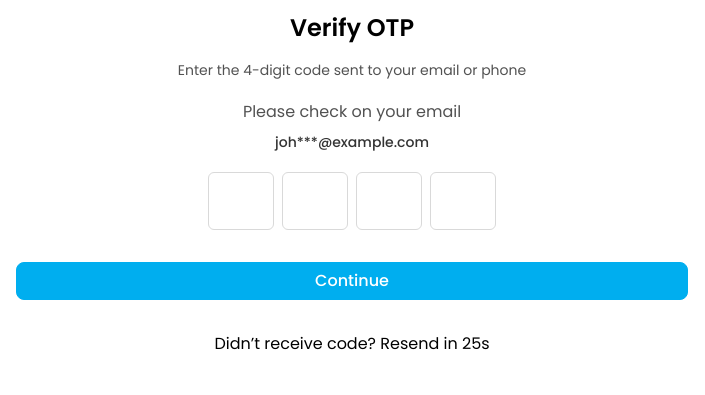
Test: ResetPasswordOtp Page Component › Validation & Submission › displays error when OTP length is not 4 digits and continue button is clicked
Click the button "Continue": [352, 281] box top-left (16, 262), bottom-right (688, 300)
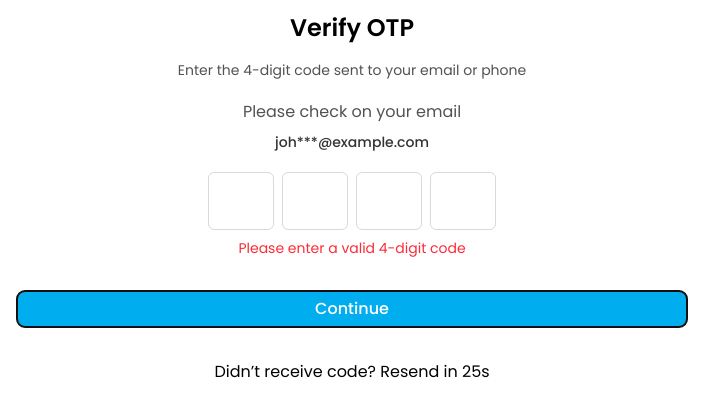
Expected: the text "Please enter a valid 4-digit code" is shown, top-left (238, 238), bottom-right (466, 258)
